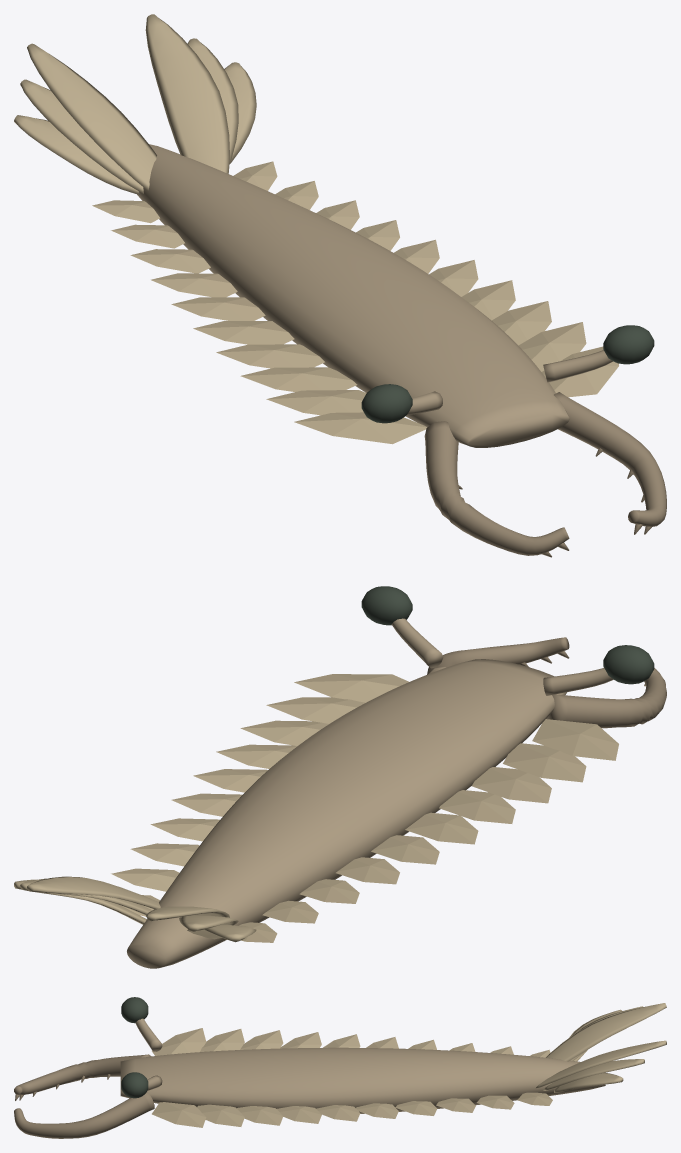
The model's file is anomalocaris.glb.
The picture shows the model from 3 angles, top to bottom: view 1: azimuth 30°, elevation 25°; view 2: azimuth 150°, elevation 25°; view 3: azimuth 270°, elevation 25°; orthographic projection. The views are drawn at different scales.
Visible parts, largest first — view 1: continuous-tapered-flexible-swimming-body-no-broad-head-shie, overlapping-lateral-swimming-flaps, three-pairs-of-upturned-tail-fan-blades, paired-curved-frontal-appendages-and-economic-inner-spines, naturally-seated-paired-eyestalks-and-eyes; view 2: continuous-tapered-flexible-swimming-body-no-broad-head-shie, overlapping-lateral-swimming-flaps, paired-curved-frontal-appendages-and-economic-inner-spines, naturally-seated-paired-eyestalks-and-eyes, three-pairs-of-upturned-tail-fan-blades; view 3: continuous-tapered-flexible-swimming-body-no-broad-head-shie, overlapping-lateral-swimming-flaps, three-pairs-of-upturned-tail-fan-blades, paired-curved-frontal-appendages-and-economic-inner-spines, naturally-seated-paired-eyestalks-and-eyes.
Boxes of the visible parts, left/top/right/bottom form: continuous-tapered-flexible-swimming-body-no-broad-head-shie: left=137, top=144, right=569, bottom=447; overlapping-lateral-swimming-flaps: left=92, top=161, right=618, bottom=444; three-pairs-of-upturned-tail-fan-blades: left=14, top=14, right=256, bottom=194; paired-curved-frontal-appendages-and-economic-inner-spines: left=424, top=392, right=666, bottom=557; naturally-seated-paired-eyestalks-and-eyes: left=361, top=325, right=654, bottom=423; continuous-tapered-flexible-swimming-body-no-broad-head-shie: left=127, top=659, right=566, bottom=968; overlapping-lateral-swimming-flaps: left=111, top=674, right=618, bottom=942; paired-curved-frontal-appendages-and-economic-inner-spines: left=427, top=637, right=666, bottom=728; naturally-seated-paired-eyestalks-and-eyes: left=361, top=586, right=654, bottom=695; three-pairs-of-upturned-tail-fan-blades: left=14, top=876, right=256, bottom=942; continuous-tapered-flexible-swimming-body-no-broad-head-shie: left=120, top=1047, right=605, bottom=1113; overlapping-lateral-swimming-flaps: left=152, top=1028, right=552, bottom=1127; three-pairs-of-upturned-tail-fan-blades: left=536, top=1003, right=666, bottom=1092; paired-curved-frontal-appendages-and-economic-inner-spines: left=14, top=1054, right=154, bottom=1138; naturally-seated-paired-eyestalks-and-eyes: left=121, top=997, right=162, bottom=1098.
Bounding box in the file's own units: 0.1466 × 0.0637 × 0.404.
